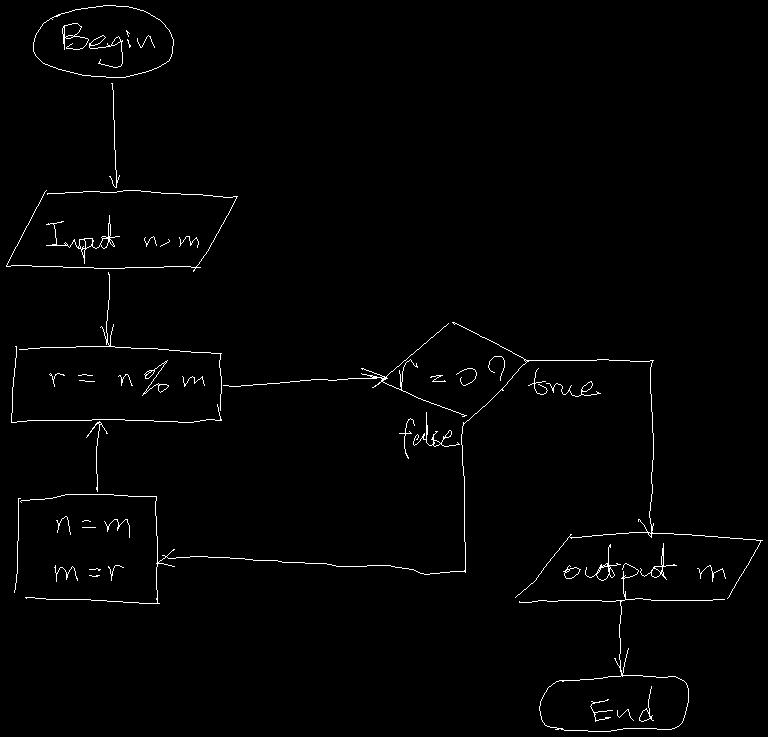arrow: (156, 422, 465, 574), (524, 359, 653, 537), (223, 368, 387, 387), (86, 421, 107, 491), (614, 600, 628, 676), (109, 83, 119, 187), (100, 272, 113, 345)
data: (6, 190, 237, 271), (515, 532, 762, 602)
decision: (381, 322, 528, 423)
process: (11, 346, 221, 422), (14, 494, 159, 603)
terminator: (33, 5, 173, 77), (539, 675, 688, 731)
text: (563, 543, 725, 598), (46, 215, 198, 263), (49, 360, 204, 395), (54, 516, 129, 581), (62, 23, 154, 67), (399, 356, 504, 390), (399, 412, 459, 458), (590, 686, 653, 721), (528, 368, 600, 396)
